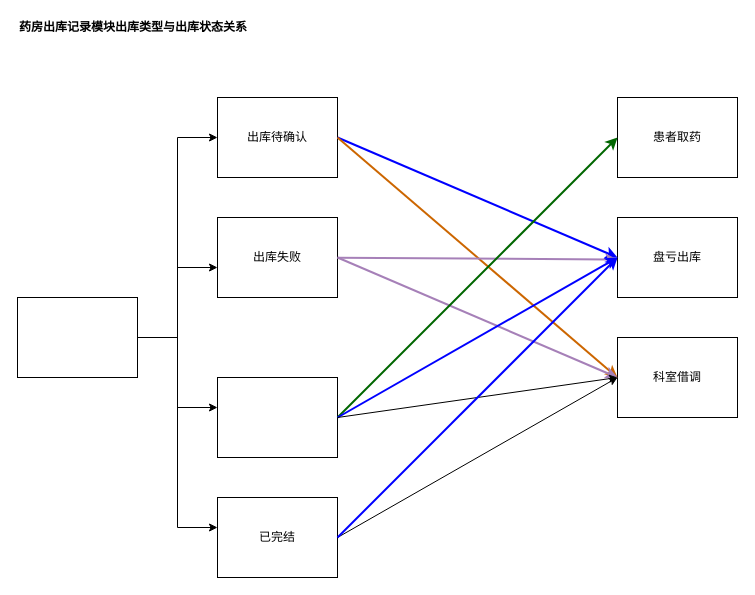
The diagram is 755 pixels wide and 595 high, and some of its shapes have lost their labels. The centre of each missing label's shape, as x and y in pixels:
"出库成功" goes at pixel 277 417.
"出库状态" goes at pixel 77 337.
